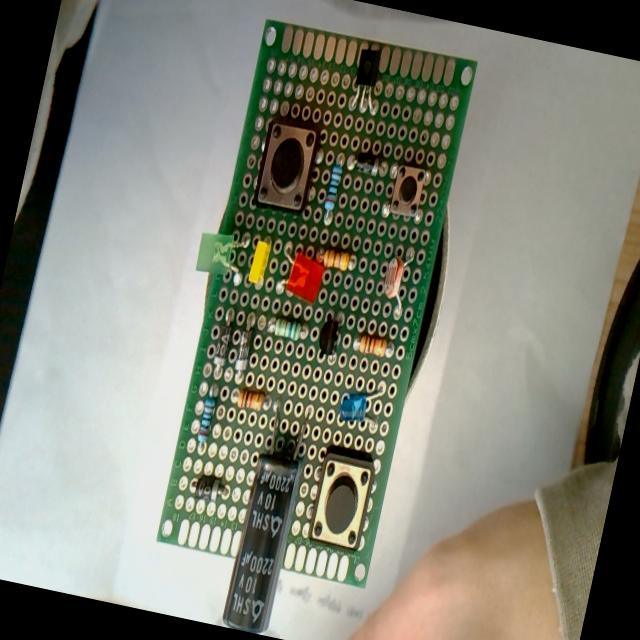Electrolytic capacitor: (222, 396, 320, 636)
cds: (364, 241, 422, 310)
diode: (332, 150, 384, 218), (204, 304, 236, 381), (228, 318, 256, 386), (190, 474, 228, 504)
led: (190, 212, 256, 291), (333, 372, 391, 434), (283, 249, 327, 306), (246, 230, 274, 294)
resistor: (321, 162, 344, 222), (194, 392, 217, 448), (353, 331, 391, 358), (270, 316, 308, 342), (320, 248, 352, 272), (236, 387, 266, 412)
switch: (306, 452, 376, 552), (252, 117, 322, 215), (388, 162, 428, 220)
transistor: (329, 38, 399, 140), (308, 304, 348, 362)
